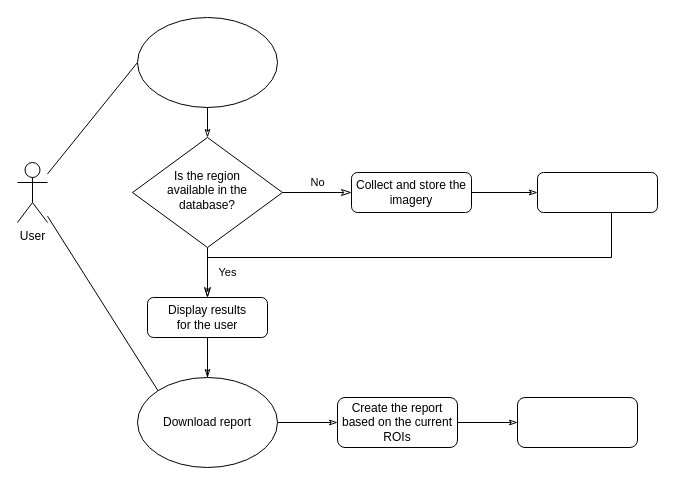
Some shapes in this 675 by 485 pixel diagram are drawn without their labels. Here are the shapes that lost their labels. From the top down, the centre of each, then its label:
At point 207,62: "Selects one or more regions of interests (ROIs)".
At point 597,192: "Process the images and store the results".
At point 577,422: "Generate a PDF and make it available to the user".
